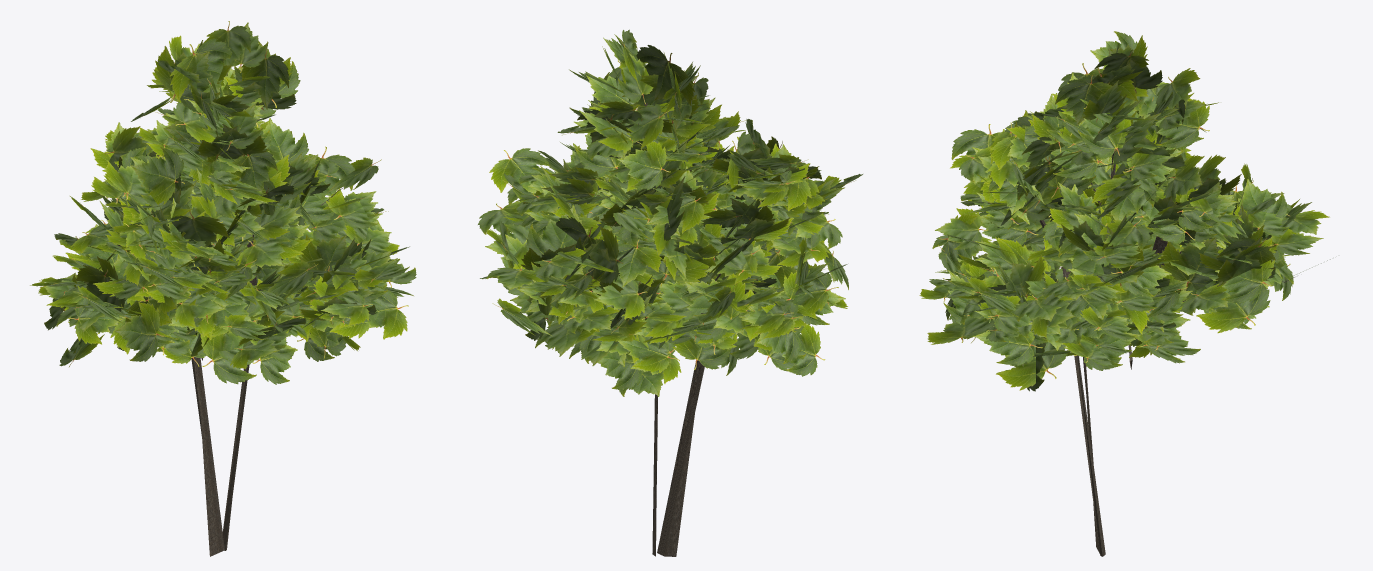
Rendered from tree_maple_lod2.glb.
3 renders of one model, left to right at view 1: azimuth 30°, elevation 25°; view 2: azimuth 150°, elevation 25°; view 3: azimuth 270°, elevation 25°, orthographic.
Parts seen in each view (by area): view 1: Maple_tree1_LOD2; view 2: Maple_tree1_LOD2; view 3: Maple_tree1_LOD2.
Boxes of the visible parts, bbox=[...] form: Maple_tree1_LOD2: bbox=[30, 21, 416, 556]; Maple_tree1_LOD2: bbox=[478, 29, 862, 556]; Maple_tree1_LOD2: bbox=[919, 31, 1330, 556].
Size of the model in its own units: 2.84 by 3.86 by 2.99.
2 materials, 2 textured.
